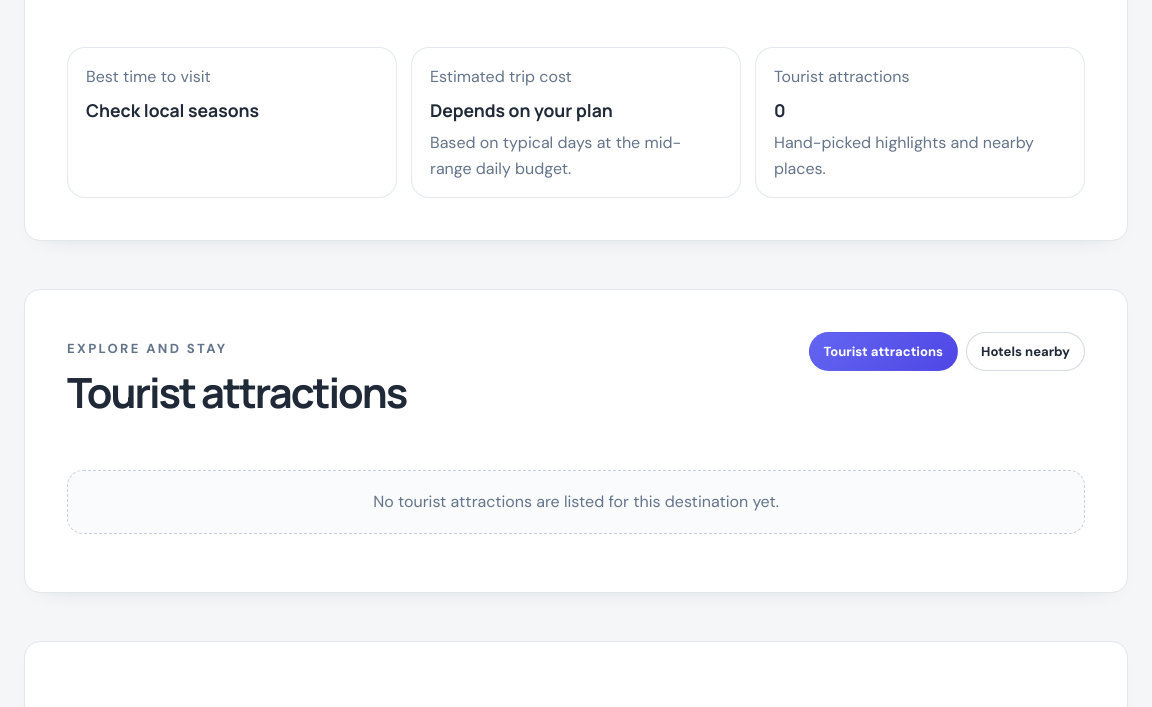
Test: Destination page - hotels nearby › shows a helpful empty state when nothing is mapped nearby
(page scrolled)
Click the tab "Hotels nearby" at (1026, 352), box [966,332,1085,371]
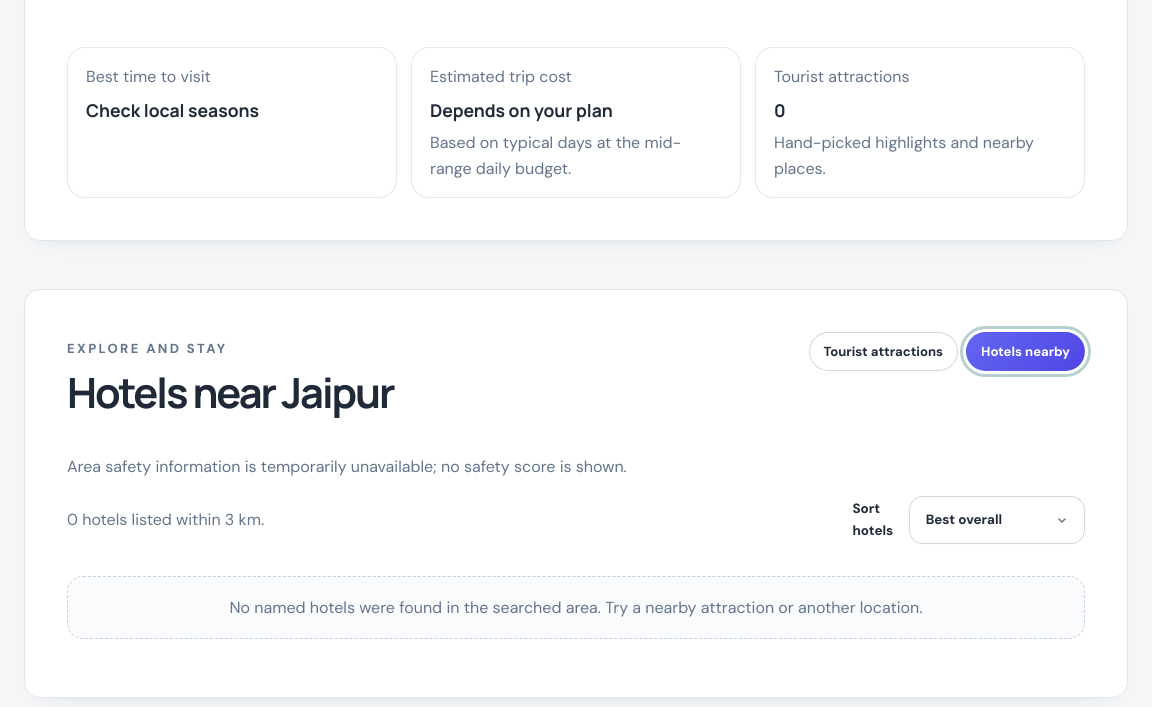
expect the text "No named hotels were found" is shown: met, box [230,596,922,618]
